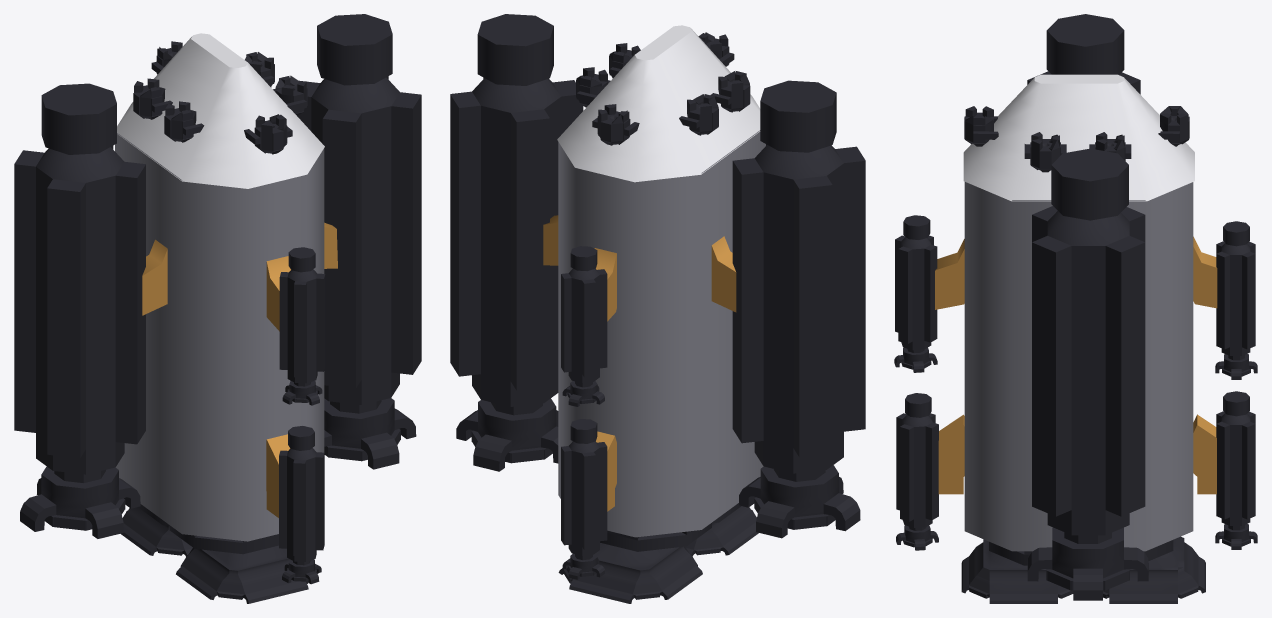
The model's file is tier9_rocket.obj.
3 renders of one model, left to right at view 1: azimuth 30°, elevation 25°; view 2: azimuth 150°, elevation 25°; view 3: azimuth 270°, elevation 25°, orthographic.
Parts seen in each view (by area): view 1: Cockoit, RocketEngine004, RocketEngine008, NoseRocket, RocketEngineBottom004, Nozzle001, RocketEngine005, RocketEngineBottom008, RocketEngine, RocketEnginePlut008, RocketEnginePlut004, Nozzle002 (+14 smaller); view 2: Cockoit, RocketEngine004, RocketEngine008, NoseRocket, RocketEngineBottom004, RocketEngineBottom008, Nozzle002, RocketEngine007, RocketEngine002, RocketEnginePlut004, RocketEnginePlut008, Nozzle001 (+15 smaller); view 3: Cockoit, RocketEngine008, NoseRocket, RocketEngineBottom008, RocketEnginePlut008, RocketEngine, RocketEngine005, RocketEnginePlut004, RocketEngine007, RocketEngine002, Nozzle001, Nozzle002 (+16 smaller).
Boxes of the visible parts, bbox=[...] form: Cockoit: bbox=[115, 132, 324, 541]; RocketEngine004: bbox=[14, 146, 145, 474]; RocketEngine008: bbox=[297, 76, 421, 404]; NoseRocket: bbox=[117, 33, 324, 188]; RocketEngineBottom004: bbox=[20, 466, 140, 538]; Nozzle001: bbox=[176, 545, 318, 603]; RocketEngine005: bbox=[279, 269, 325, 383]; RocketEngineBottom008: bbox=[324, 398, 416, 469]; RocketEngine: bbox=[279, 448, 324, 561]; RocketEnginePlut008: bbox=[317, 14, 392, 85]; RocketEnginePlut004: bbox=[41, 83, 116, 154]; Nozzle002: bbox=[120, 507, 192, 556]; Cockoit: bbox=[558, 130, 765, 537]; RocketEngine004: bbox=[732, 144, 865, 473]; RocketEngine008: bbox=[450, 77, 583, 406]; NoseRocket: bbox=[557, 25, 760, 182]; RocketEngineBottom004: bbox=[739, 465, 860, 538]; RocketEngineBottom008: bbox=[456, 398, 558, 471]; Nozzle002: bbox=[558, 543, 702, 603]; RocketEngine007: bbox=[561, 268, 607, 382]; RocketEngine002: bbox=[561, 441, 607, 555]; RocketEnginePlut004: bbox=[760, 80, 836, 152]; RocketEnginePlut008: bbox=[477, 14, 553, 85]; Nozzle001: bbox=[685, 506, 758, 556]; Cockoit: bbox=[964, 182, 1193, 551]; RocketEngine008: bbox=[1032, 206, 1145, 535]; NoseRocket: bbox=[963, 74, 1194, 201]; RocketEngineBottom008: bbox=[1027, 527, 1148, 600]; RocketEnginePlut008: bbox=[1051, 148, 1128, 220]; RocketEngine: bbox=[896, 413, 938, 527]; RocketEngine005: bbox=[895, 235, 937, 350]; RocketEnginePlut004: bbox=[1046, 14, 1124, 74]; RocketEngine007: bbox=[1216, 241, 1255, 355]; RocketEngine002: bbox=[1216, 411, 1255, 525]; Nozzle001: bbox=[961, 539, 1073, 603]; Nozzle002: bbox=[1103, 536, 1205, 603].
Size of the model in its own units: 8.94 by 11.23 by 7.39.
